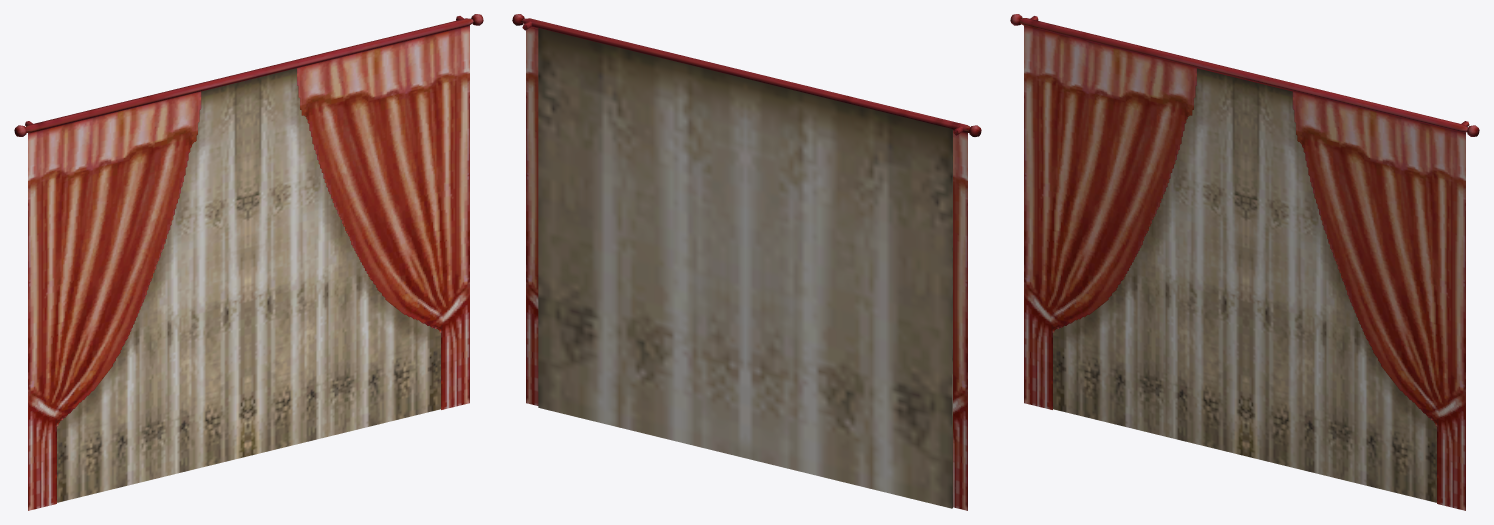
The model's file is furni_0201136_02.FBX.
3 views of the same model, side by side, from view 1: azimuth 30°, elevation 25°; view 2: azimuth 150°, elevation 25°; view 3: azimuth 330°, elevation 25° (orthographic).
Visible parts, largest first — view 1: furni_0201136_02; view 2: furni_0201136_02; view 3: furni_0201136_02.
Part boxes in pixels (x1,y1,x2,y2): furni_0201136_02: [14, 14, 483, 510]; furni_0201136_02: [512, 14, 981, 510]; furni_0201136_02: [1010, 14, 1479, 510].
Size of the model in its own units: 353 by 279 by 12.24.
2 materials, 2 textured.
